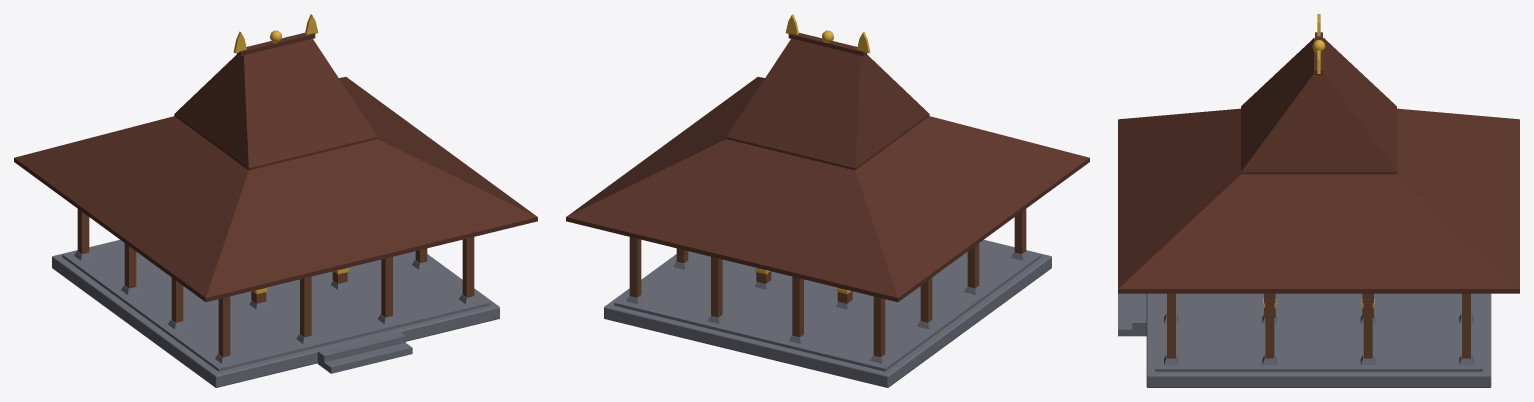
The model's file is pendopo.glb.
3 views of the same model, side by side, from view 1: azimuth 30°, elevation 25°; view 2: azimuth 150°, elevation 25°; view 3: azimuth 270°, elevation 25° (orthographic). The views are drawn at different scales.
Parts seen in each view (by area): view 1: pendopo_mesh; view 2: pendopo_mesh; view 3: pendopo_mesh.
Boxes of the visible parts, <box> form: pendopo_mesh: <box>14,14,537,387</box>; pendopo_mesh: <box>566,14,1089,387</box>; pendopo_mesh: <box>1118,14,1519,387</box>.
Bounding box in the file's own units: 9.8 × 7.63 × 9.8.
